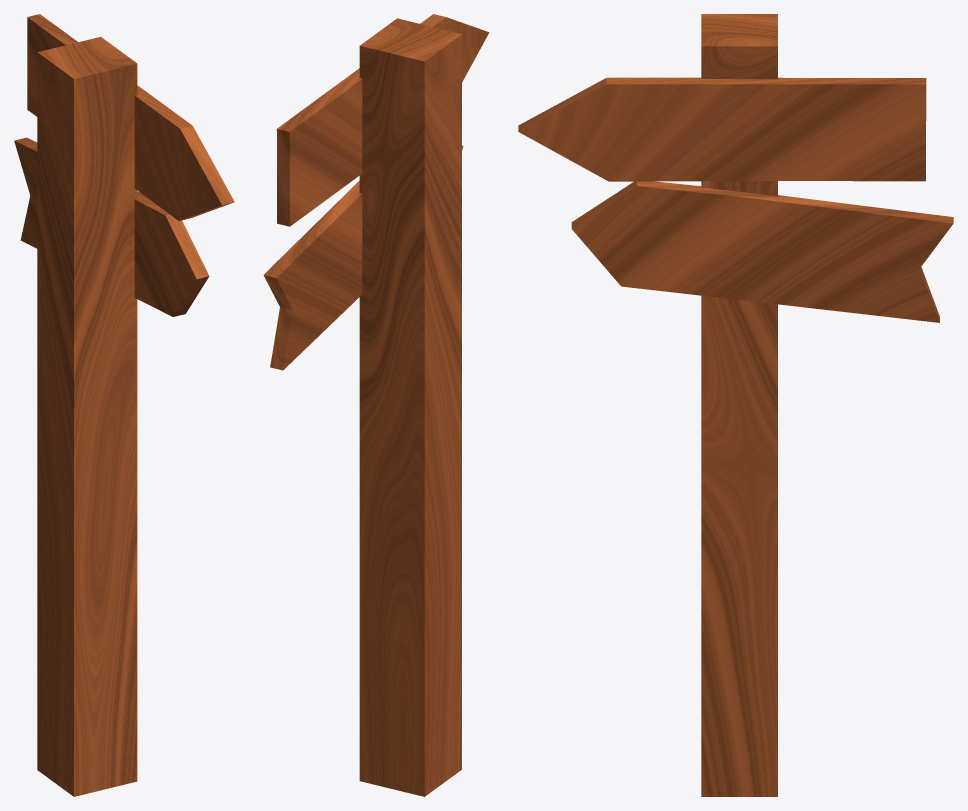
Rendered from Sign6.fbx.
The picture shows the model from 3 angles, left to right: view 1: azimuth 30°, elevation 25°; view 2: azimuth 150°, elevation 25°; view 3: azimuth 270°, elevation 25°; orthographic projection. The views are drawn at different scales.
Parts seen in each view (by area): view 1: Cube.013; view 2: Cube.013; view 3: Cube.013.
Part boxes in pixels (box(x1,y1,x2,y2)): Cube.013: box(14, 14, 234, 796); Cube.013: box(263, 14, 489, 796); Cube.013: box(518, 14, 953, 796).
Size of the model in its own units: 20.8 by 195 by 102.
Materials: 1 (1 with a texture image).
